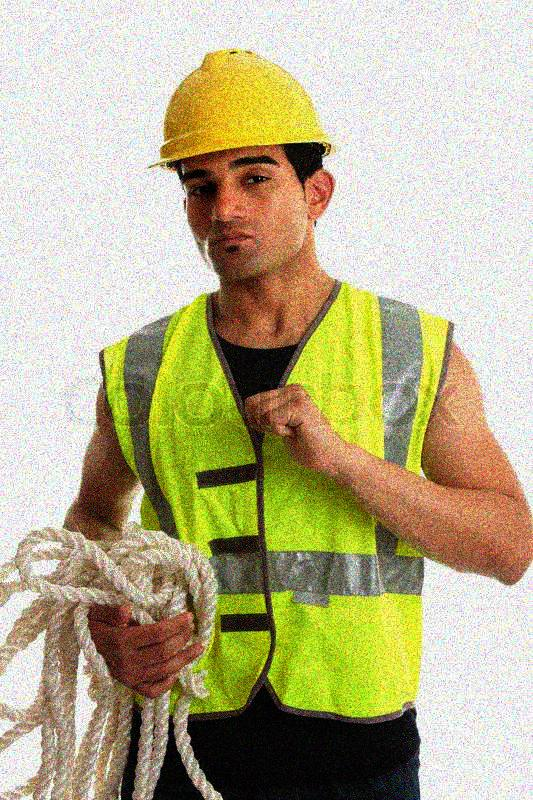helmet: (144, 44, 336, 283)
